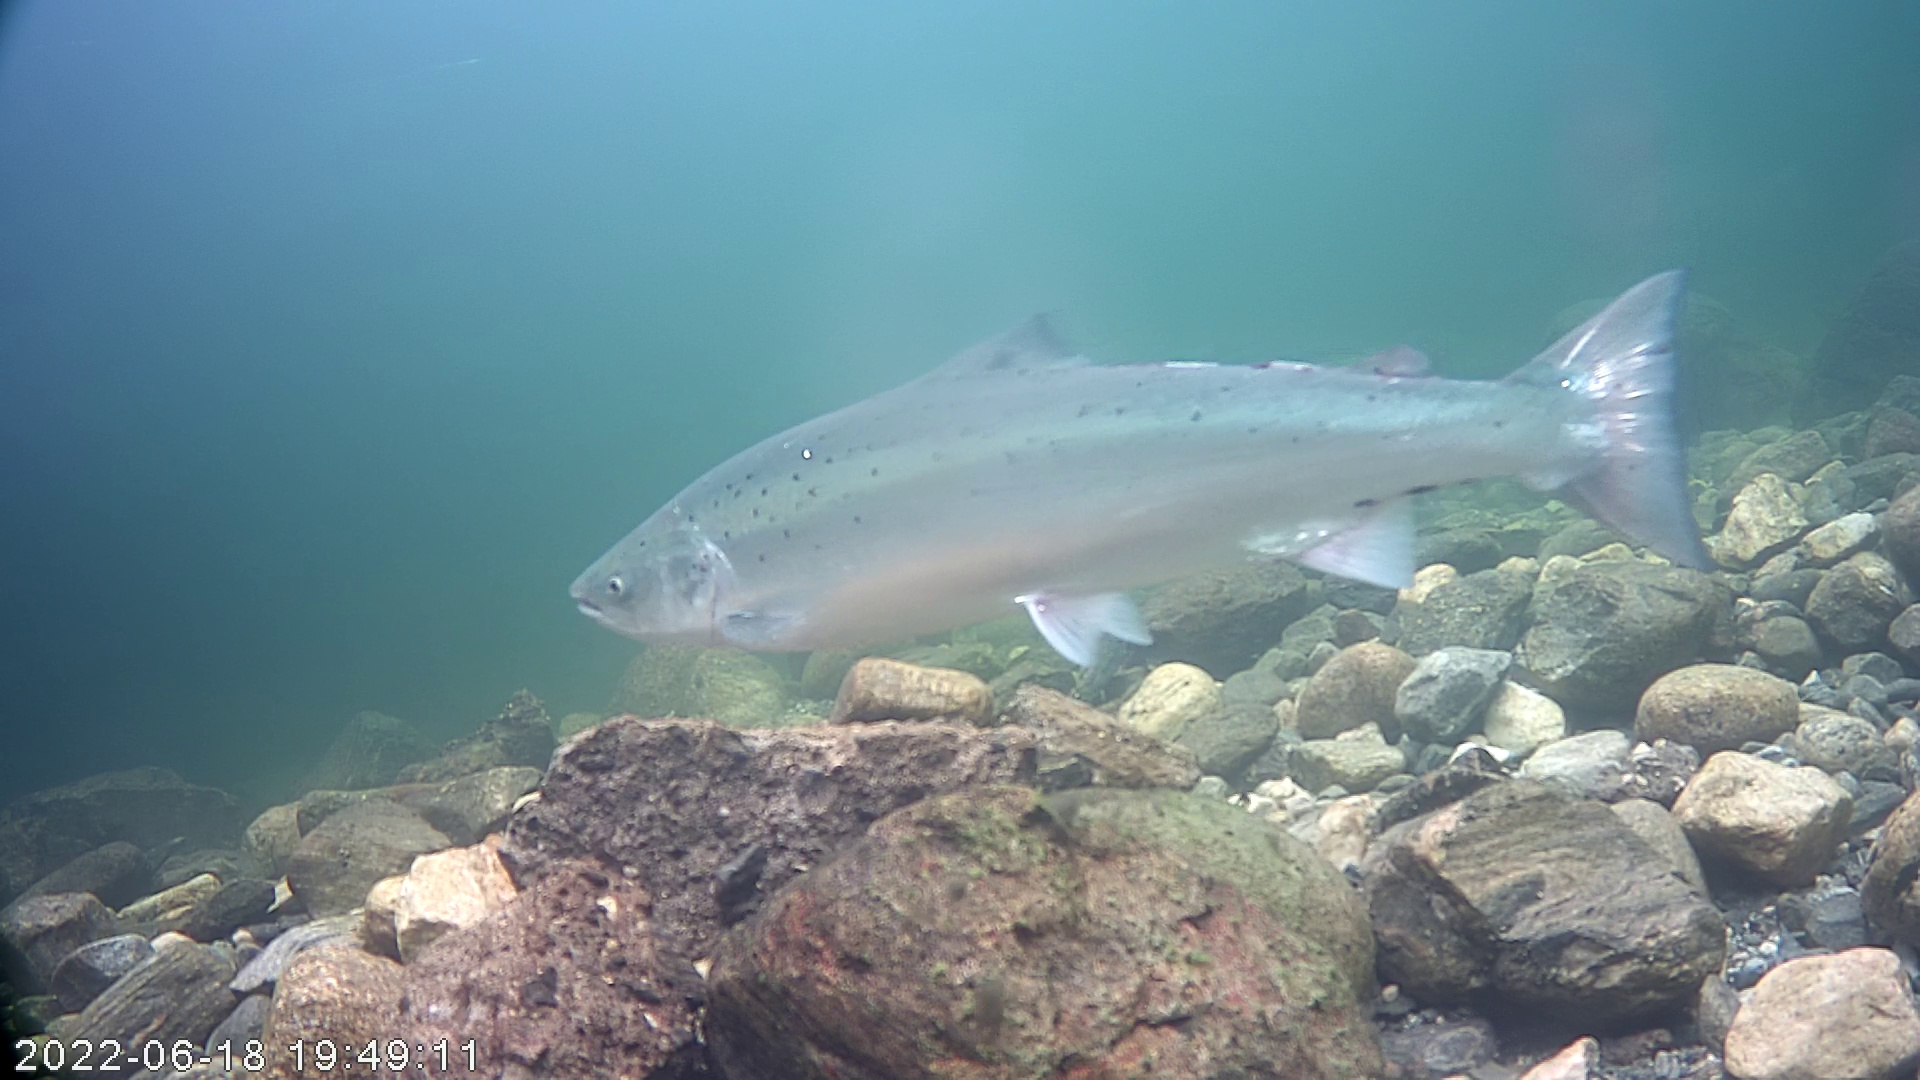salmon: (567, 264, 1716, 671)
